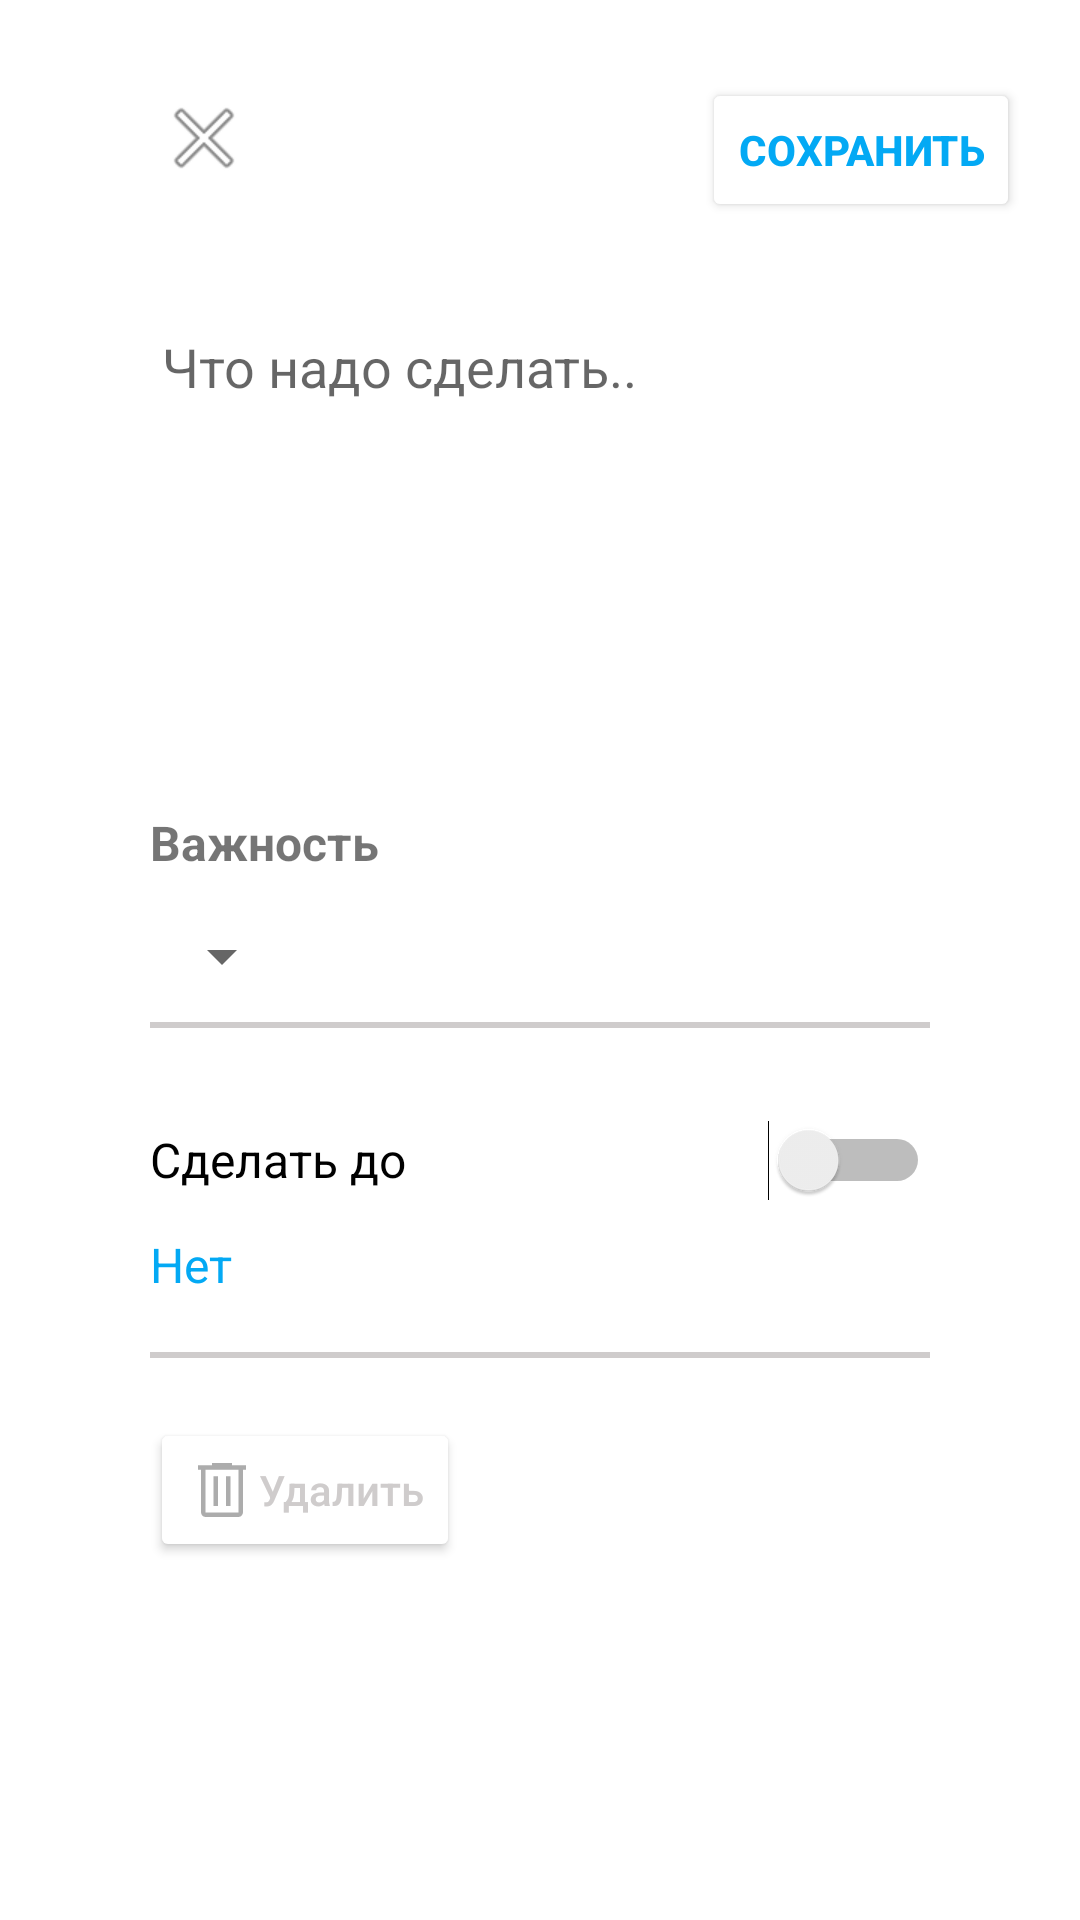

Icons on this 1080 × 1920 Android screen, each with the point to tap as [x,y]:
close clear cancel: [204,138]
